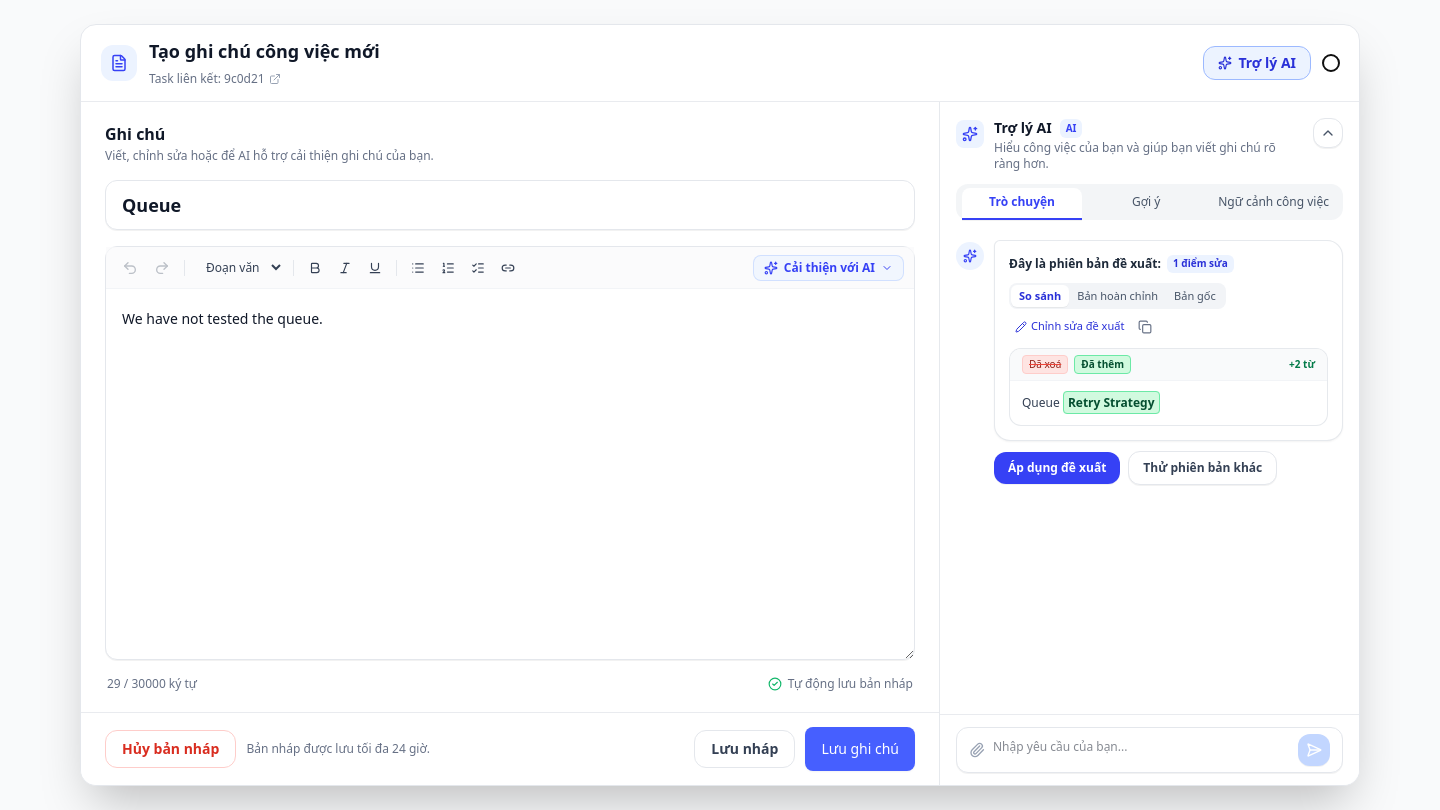
Test: applies edited proposal text to title instead of contentMarkdown for replace_title proposals
Click the button "Chỉnh sửa đề xuất" at (1070, 327), box left=1009, top=315, right=1130, bottom=338
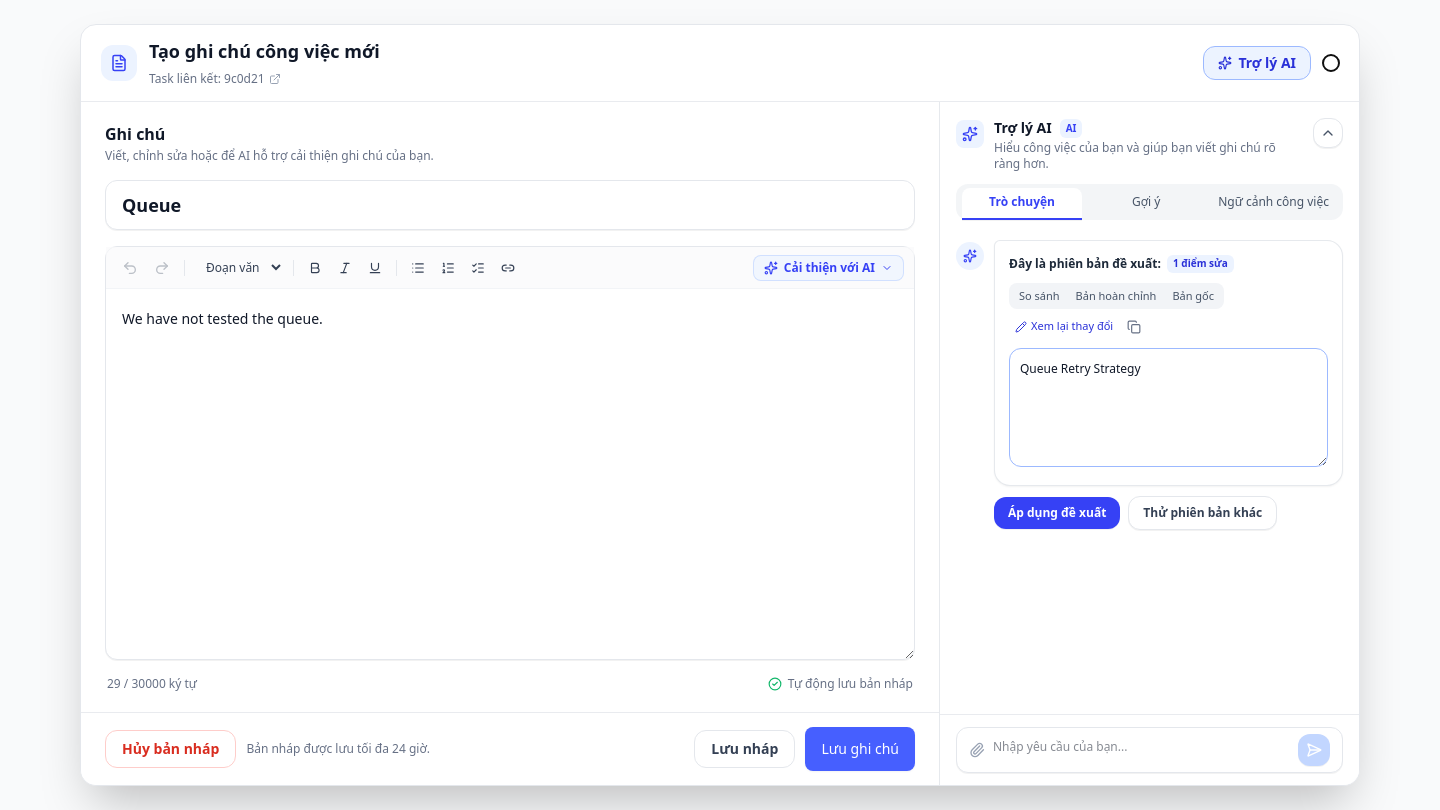
Replace the text in the text box named "Chỉnh sửa đề xuất" below "Đây là phiên bản đề xuất:" with "Custom Edited Queue Title" at (1168, 408), box left=1009, top=348, right=1328, bottom=467
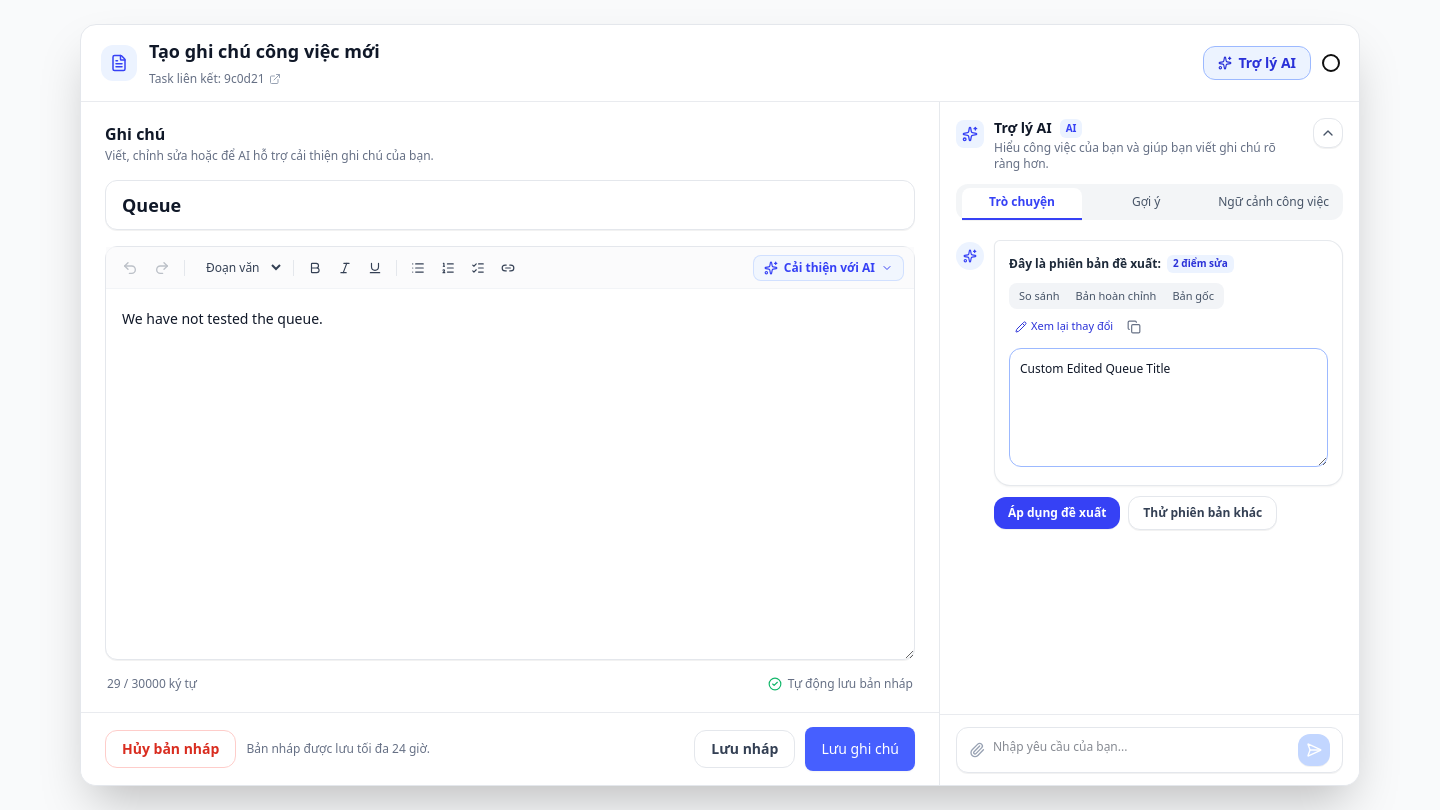
Click the button "Áp dụng đề xuất" at (1057, 513), box left=994, top=497, right=1120, bottom=529
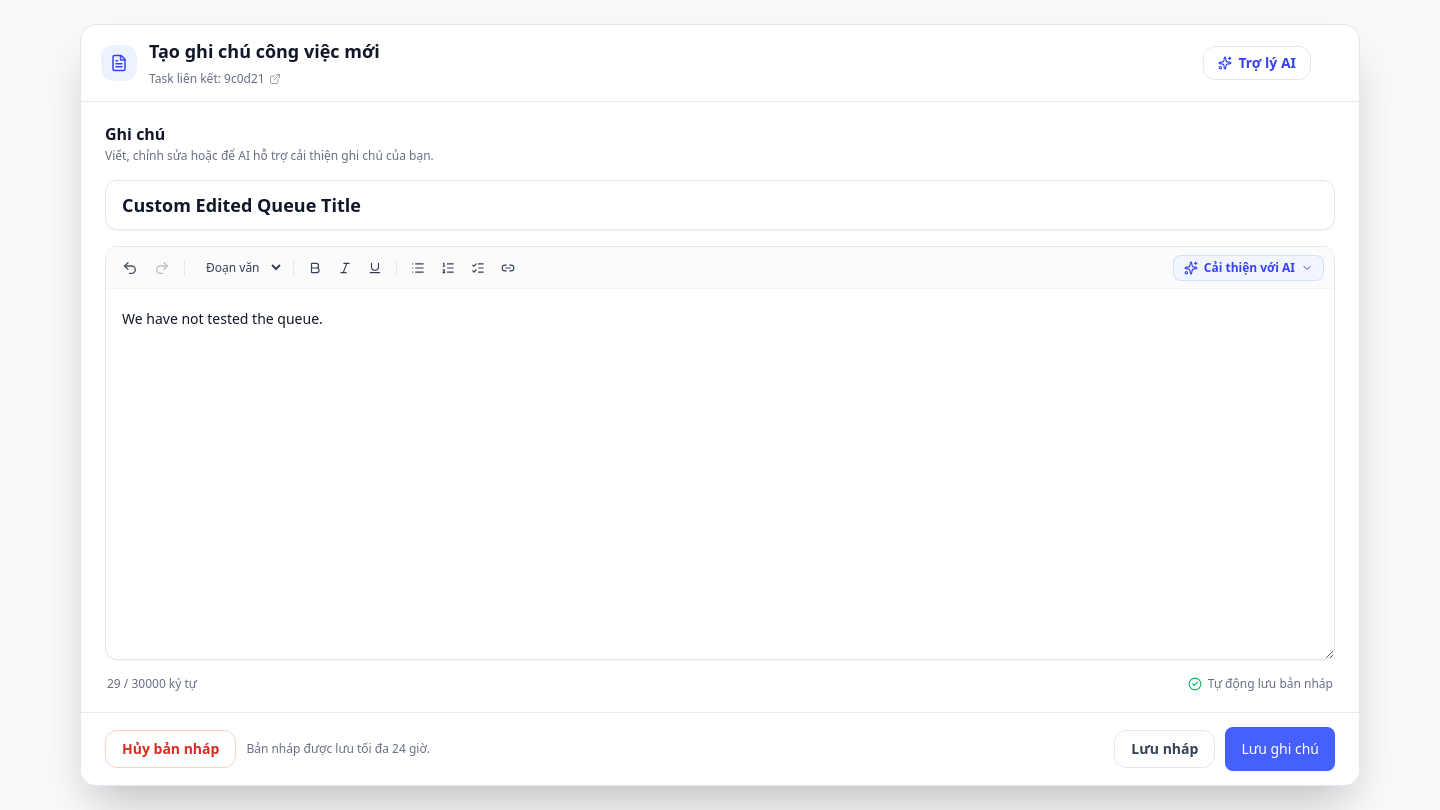
Expected: the text box named "Nội dung" holds "We have not tested the queue.", left=106, top=289, right=1334, bottom=659
Now the field named "tiêu đề" holds "Custom Edited Queue Title", box left=105, top=180, right=1335, bottom=230
